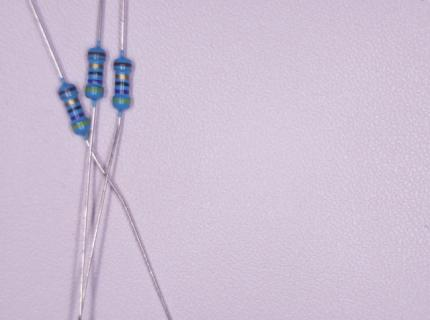Gold band: (65, 97, 79, 107), (89, 63, 103, 69), (116, 74, 129, 80)
Violet band: (71, 112, 84, 121), (88, 80, 102, 85), (115, 89, 129, 94)
Yellow band: (72, 120, 90, 130), (85, 88, 104, 93), (113, 99, 130, 103)
